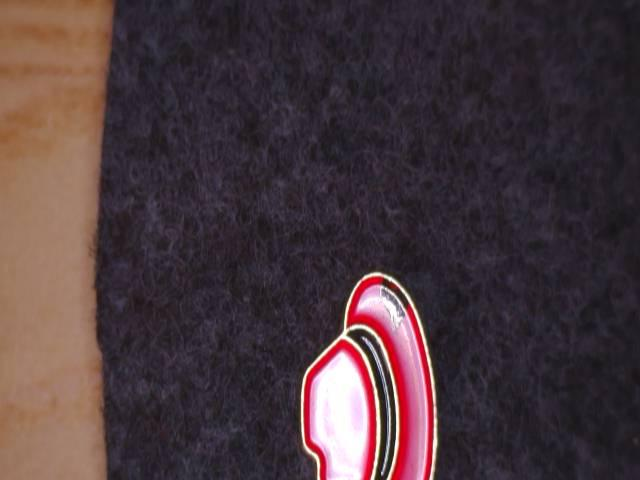Red-Hat: (272, 241, 475, 480)
Scratch: (371, 267, 422, 335)
